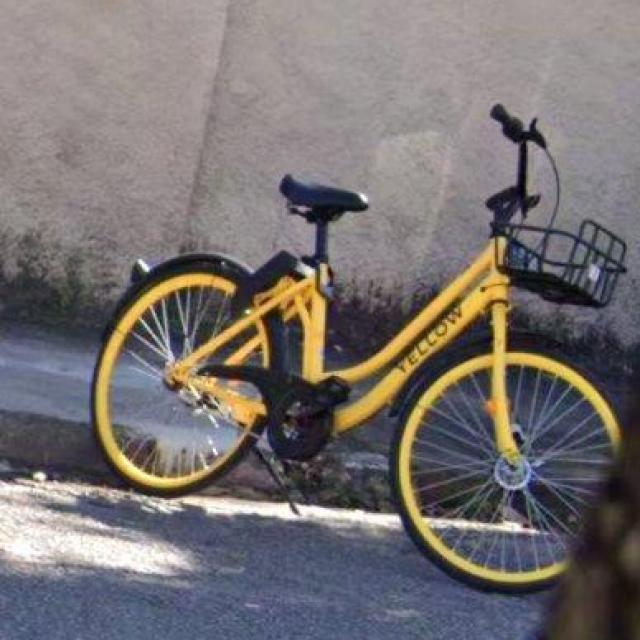bicycle: (92, 107, 628, 593)
